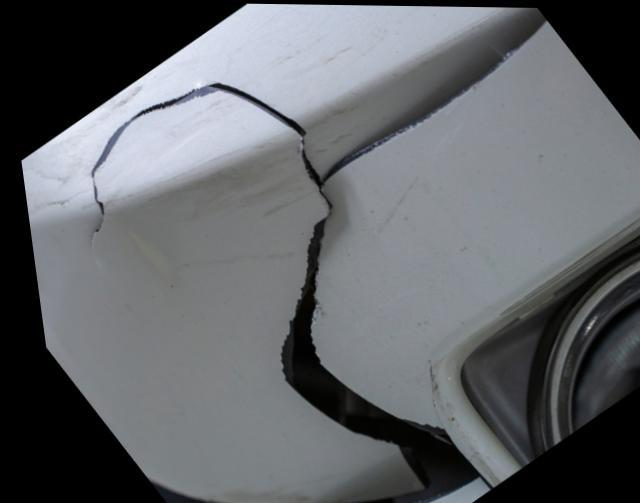crack: (82, 13, 549, 503)
scratch: (17, 64, 156, 224)
